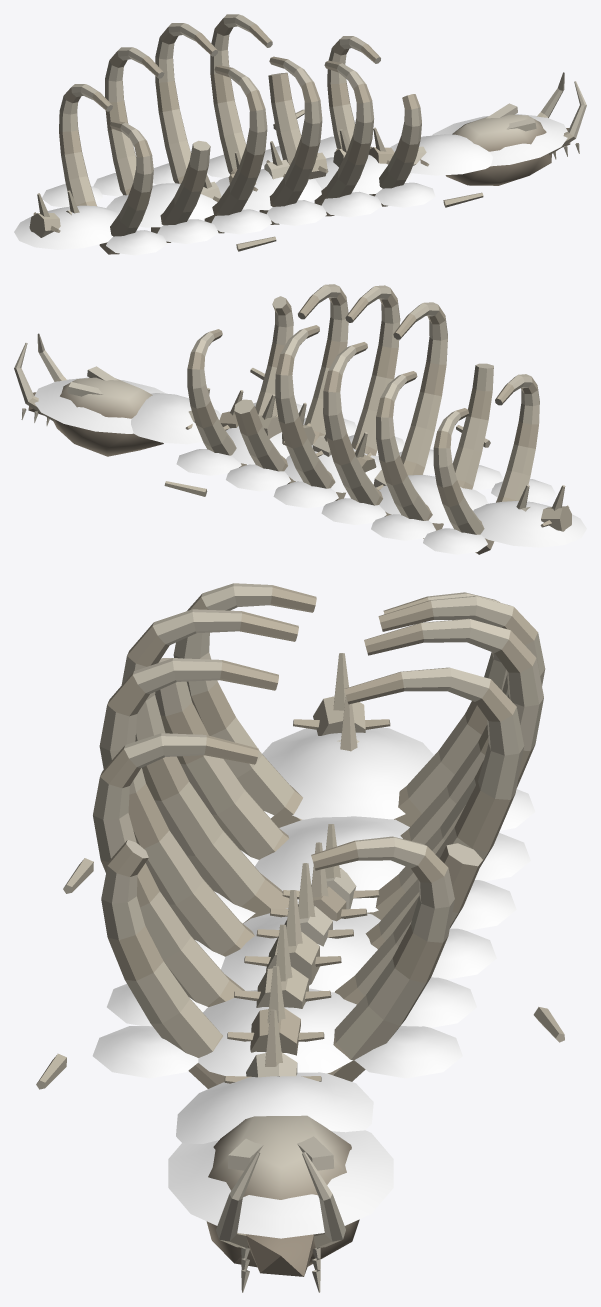
Rendered from huesos_costillas.glb.
3 views of the same model, one above another, from view 1: azimuth 30°, elevation 25°; view 2: azimuth 150°, elevation 25°; view 3: azimuth 270°, elevation 25° (orthographic). The views are drawn at different scales.
Visible parts, largest first — view 1: huesos_costillas, huesos_costillas_arena; view 2: huesos_costillas, huesos_costillas_arena; view 3: huesos_costillas, huesos_costillas_arena.
Boxes of the visible parts, box(x1,y1,x2,y2) form: huesos_costillas: box(29, 14, 586, 254); huesos_costillas_arena: box(14, 114, 567, 255); huesos_costillas: box(14, 284, 571, 554); huesos_costillas_arena: box(34, 377, 586, 554); huesos_costillas: box(36, 583, 564, 1292); huesos_costillas_arena: box(92, 727, 535, 1238).
Bounding box in the file's own units: 19.4 × 6.48 × 8.24.
